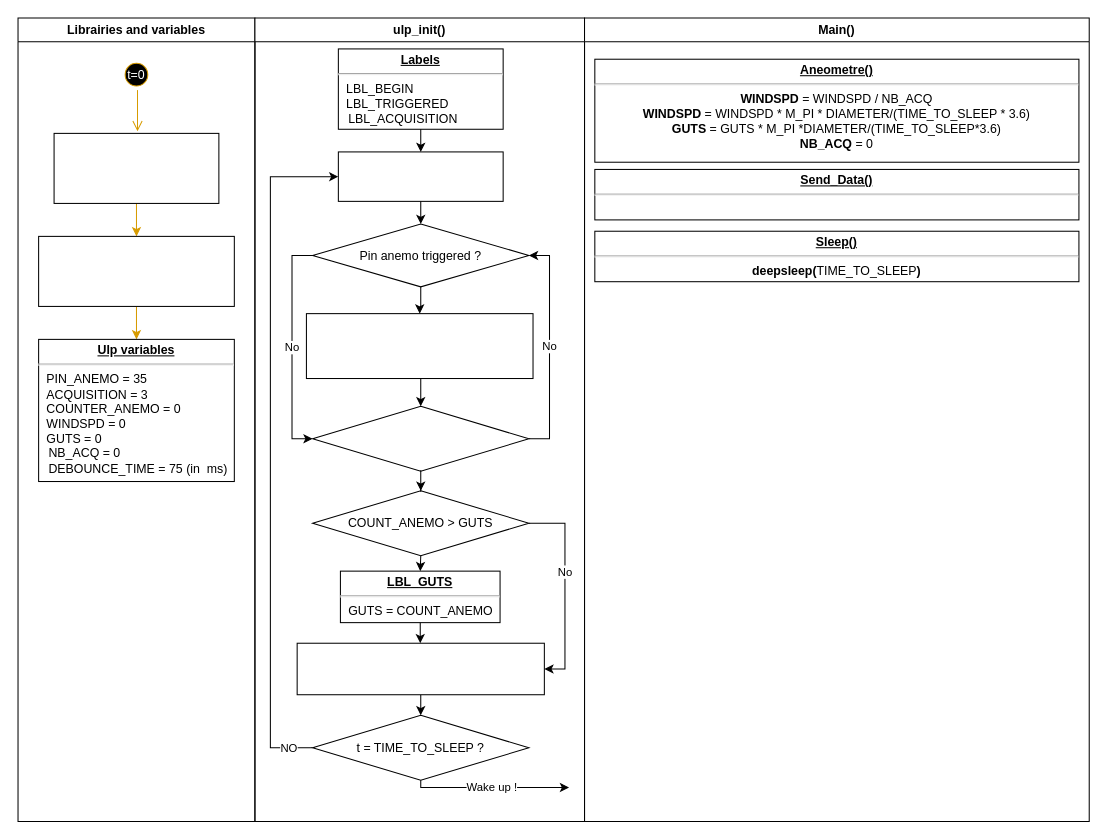
This 1107x839 diagram has some shape labels left out. Each missing label, with the centre of its shape:
LBL_ACQUISITION COUNT_ANEMO ++ COUNT_ANEMO = COUNT_ANEMO /2: (x=419, y=346)
LBL_BEGIN Reset COUNT_ANEMO = 0: (x=420, y=176)
Librairies hulp_arduino.h math.h: (x=136, y=167)
NB_ACQ ++ WINDSPD = + COUNT_ANEMO: (x=420, y=668)
SoC variables TIME_TO_SLEEP = 60 (in s) DIAMETER = 0.07: (x=136, y=270)
t = ACQUISITION ?: (x=420, y=438)
